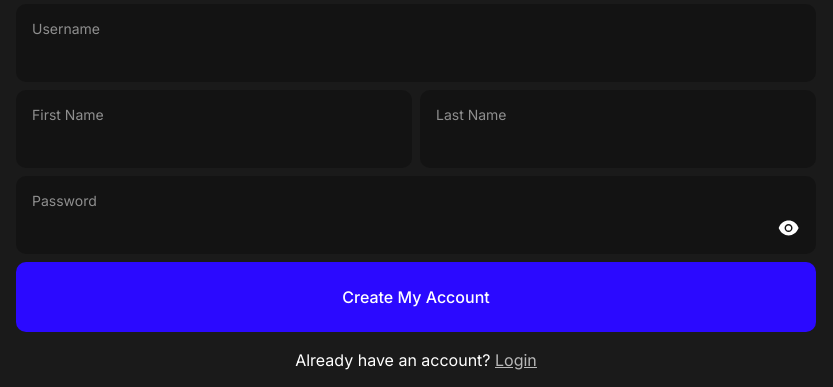
Test case: RegisterPage › should display all errors when submitting with all empty fields
Click the button "Create My Account": click(416, 297) [16, 262, 816, 332]
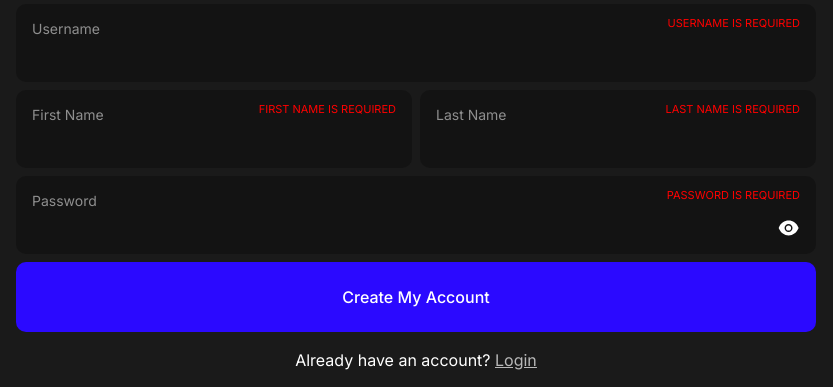
Expected: the text "Username is required" is shown, [668, 16, 800, 30]
Expected: the text "First Name is Required" is shown, [259, 102, 396, 116]
Expected: the text "Last Name is Required" is shown, [666, 102, 800, 116]
